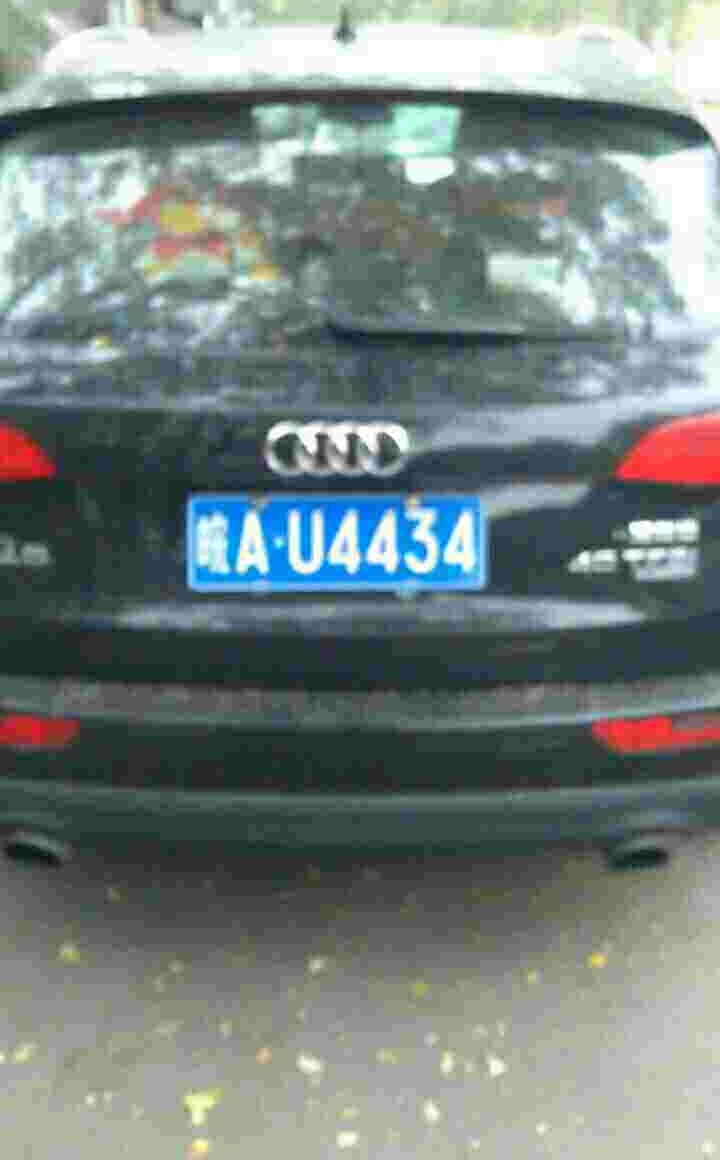license_plate: (180, 485, 485, 591)
